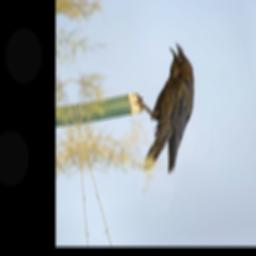Crow: (123, 39, 214, 180)
